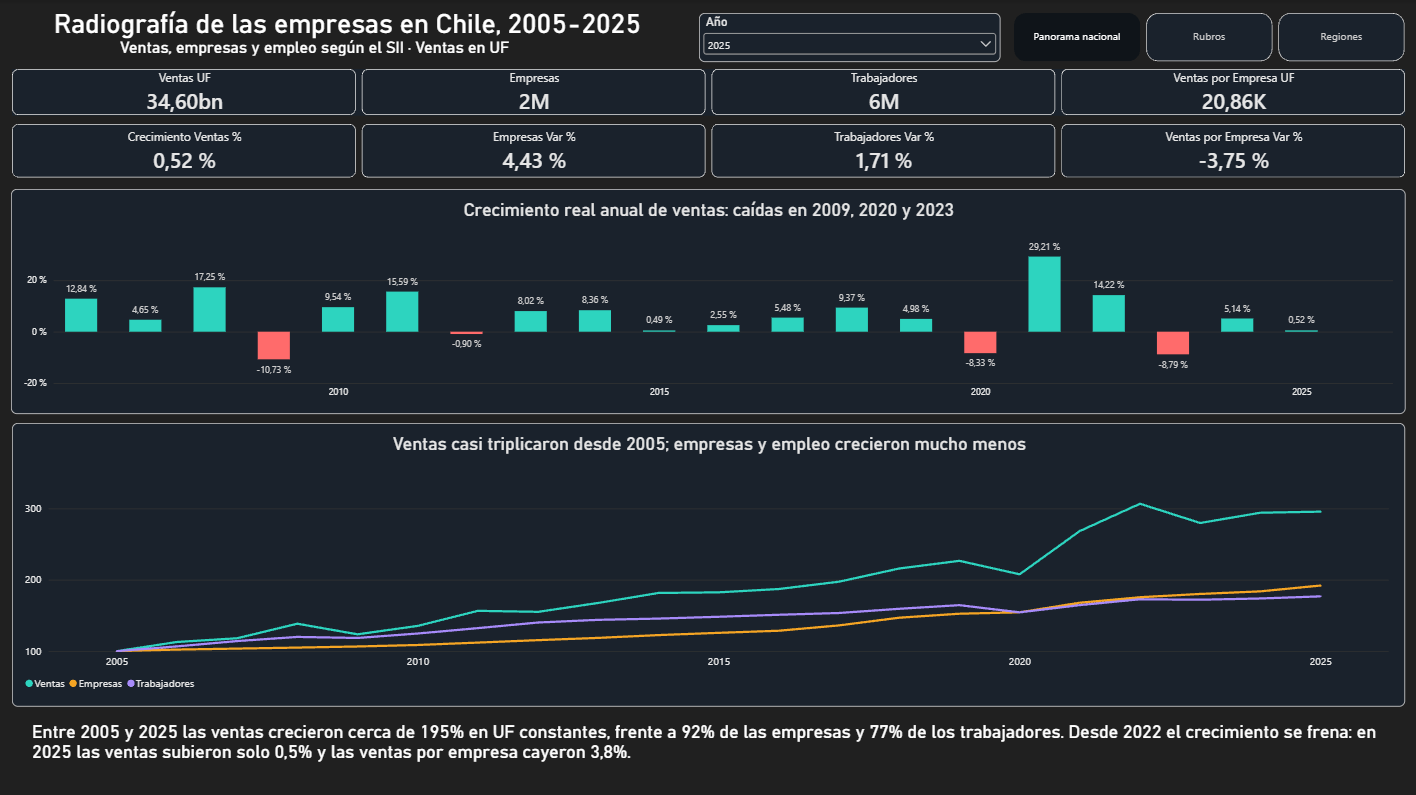

What the dashboard file says about the page in this screenshot:
{"tool":"powerbi","page":{"name":"Panorama nacional","canvas":[1920,1080],"ordinal":0},"visuals":[{"type":"cardVisual","fields":{"Data":["_medidas.Ventas UF","_medidas.Empresas","_medidas.Trabajadores","_medidas.Ventas por Empresa UF"]},"box":[21.9,93.4,1876.2,62.7],"z":0},{"type":"cardVisual","fields":{"Data":["_medidas.Crecimiento Ventas %","_medidas.Empresas Var %","_medidas.Trabajadores Var %","_medidas.Ventas por Empresa Var %"]},"box":[21.9,166.3,1876.2,72.9],"z":1000},{"type":"lineChart","title":"Ventas casi triplicaron desde 2005; empresas y empleo crecieron mucho menos","fields":{"Category":["Dim_Año.Año Comercial"],"Y":["_indices.Índice Ventas","_indices.Índice Empresas","_indices.Índice Trabajadores"]},"box":[21.9,569,1876.2,382.2],"z":2000},{"type":"clusteredColumnChart","title":"Crecimiento real anual de ventas: caídas en 2009, 2020 y 2023","fields":{"Category":["Dim_Año.Año Comercial"],"Y":["_medidas.Crecimiento Ventas %"]},"box":[20.4,253.9,1877.7,303.5],"z":3000},{"type":"slicer","fields":{"Values":["Dim_Año.Año Comercial"]},"box":[946.9,17.5,405.6,65.7],"z":4000},{"type":"textbox","title":"Radiografía de las empresas en Chile, 2005-2025","box":[0,10.2,946.9,81.7],"z":5000},{"type":"textbox","title":"Ventas, empresas y empleo según el SII · Ventas en UF ","box":[166.3,51.1,573.4,119.6],"z":6000},{"type":"textbox","title":"Entre 2005 y 2025 las ventas crecieron cerca de 195% en UF constantes, frente a 92% de las empresas y 77% de los trabajadores. Desde 2022 el crecimiento se frena: en 2025 las ventas subieron solo 0,5%","box":[48.1,971.7,1850,68.6],"z":7000},{"type":"bookmarkNavigator","box":[0,1.5,551.5,49.6],"z":8000},{"type":"pageNavigator","box":[1371.4,17.5,526.7,65.7],"z":9000}]}

Visuals, with their boxes in screenshot pixels (x1, y1, x2, y2), scaled from the page's 1920x1080 canvas onto the 1416x795 screenshot:
cardVisual - _medidas.Ventas UF x _medidas.Empresas: bbox(16, 69, 1400, 115)
cardVisual - _medidas.Crecimiento Ventas % x _medidas.Empresas Var %: bbox(16, 122, 1400, 176)
"Ventas casi triplicaron desde 2005; empresas y empleo crecieron mucho menos" lineChart: bbox(16, 419, 1400, 700)
"Crecimiento real anual de ventas: caídas en 2009, 2020 y 2023" clusteredColumnChart: bbox(15, 187, 1400, 410)
slicer - Dim_Año.Año Comercial: bbox(698, 13, 997, 61)
"Radiografía de las empresas en Chile, 2005-2025" textbox: bbox(0, 8, 698, 68)
"Ventas, empresas y empleo según el SII · Ventas en UF " textbox: bbox(123, 38, 546, 126)
"Entre 2005 y 2025 las ventas crecieron cerca de 195% en UF constantes, frente a 92% de las empresas y 77% de los trabajadores. Desde 2022 el crecimiento se frena: en 2025 las ventas subieron solo 0,5%" textbox: bbox(35, 715, 1400, 766)
bookmarkNavigator: bbox(0, 1, 407, 38)
pageNavigator: bbox(1011, 13, 1400, 61)
